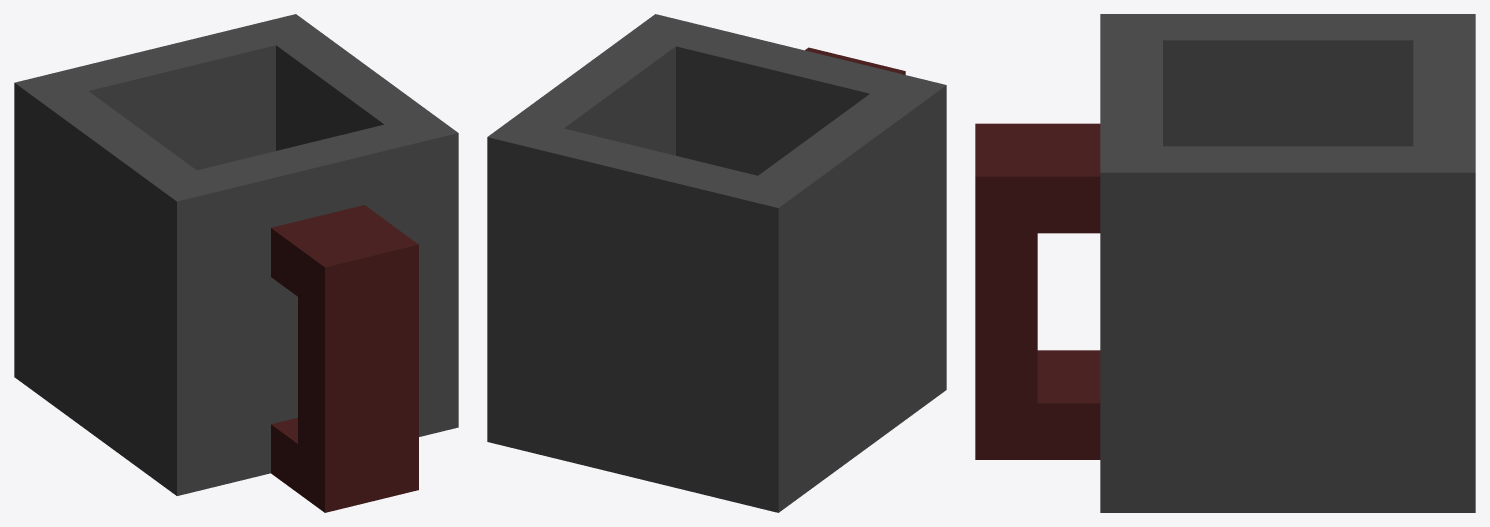
Rendered from CupGray.obj.
3 renders of one model, left to right at view 1: azimuth 30°, elevation 25°; view 2: azimuth 150°, elevation 25°; view 3: azimuth 270°, elevation 25°, orthographic. The views are drawn at different scales.
Bounding box in the file's own units: 0.6 × 0.6 × 0.8.
1 material, 1 textured.
